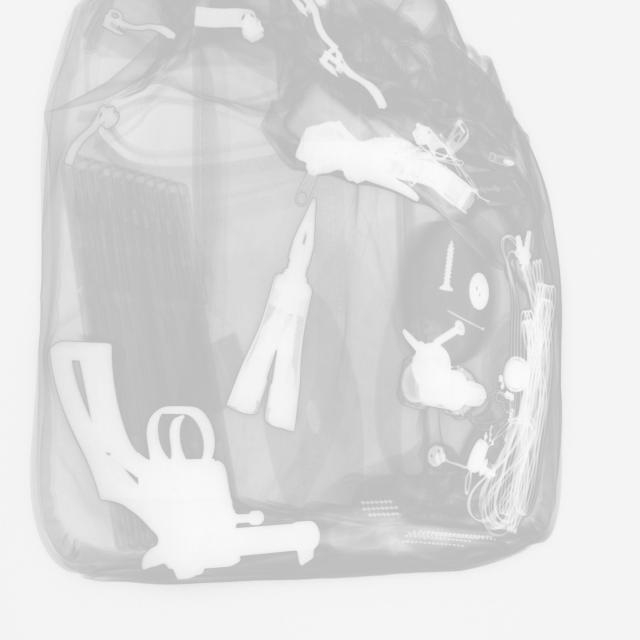pistol: (47, 338, 321, 583)
